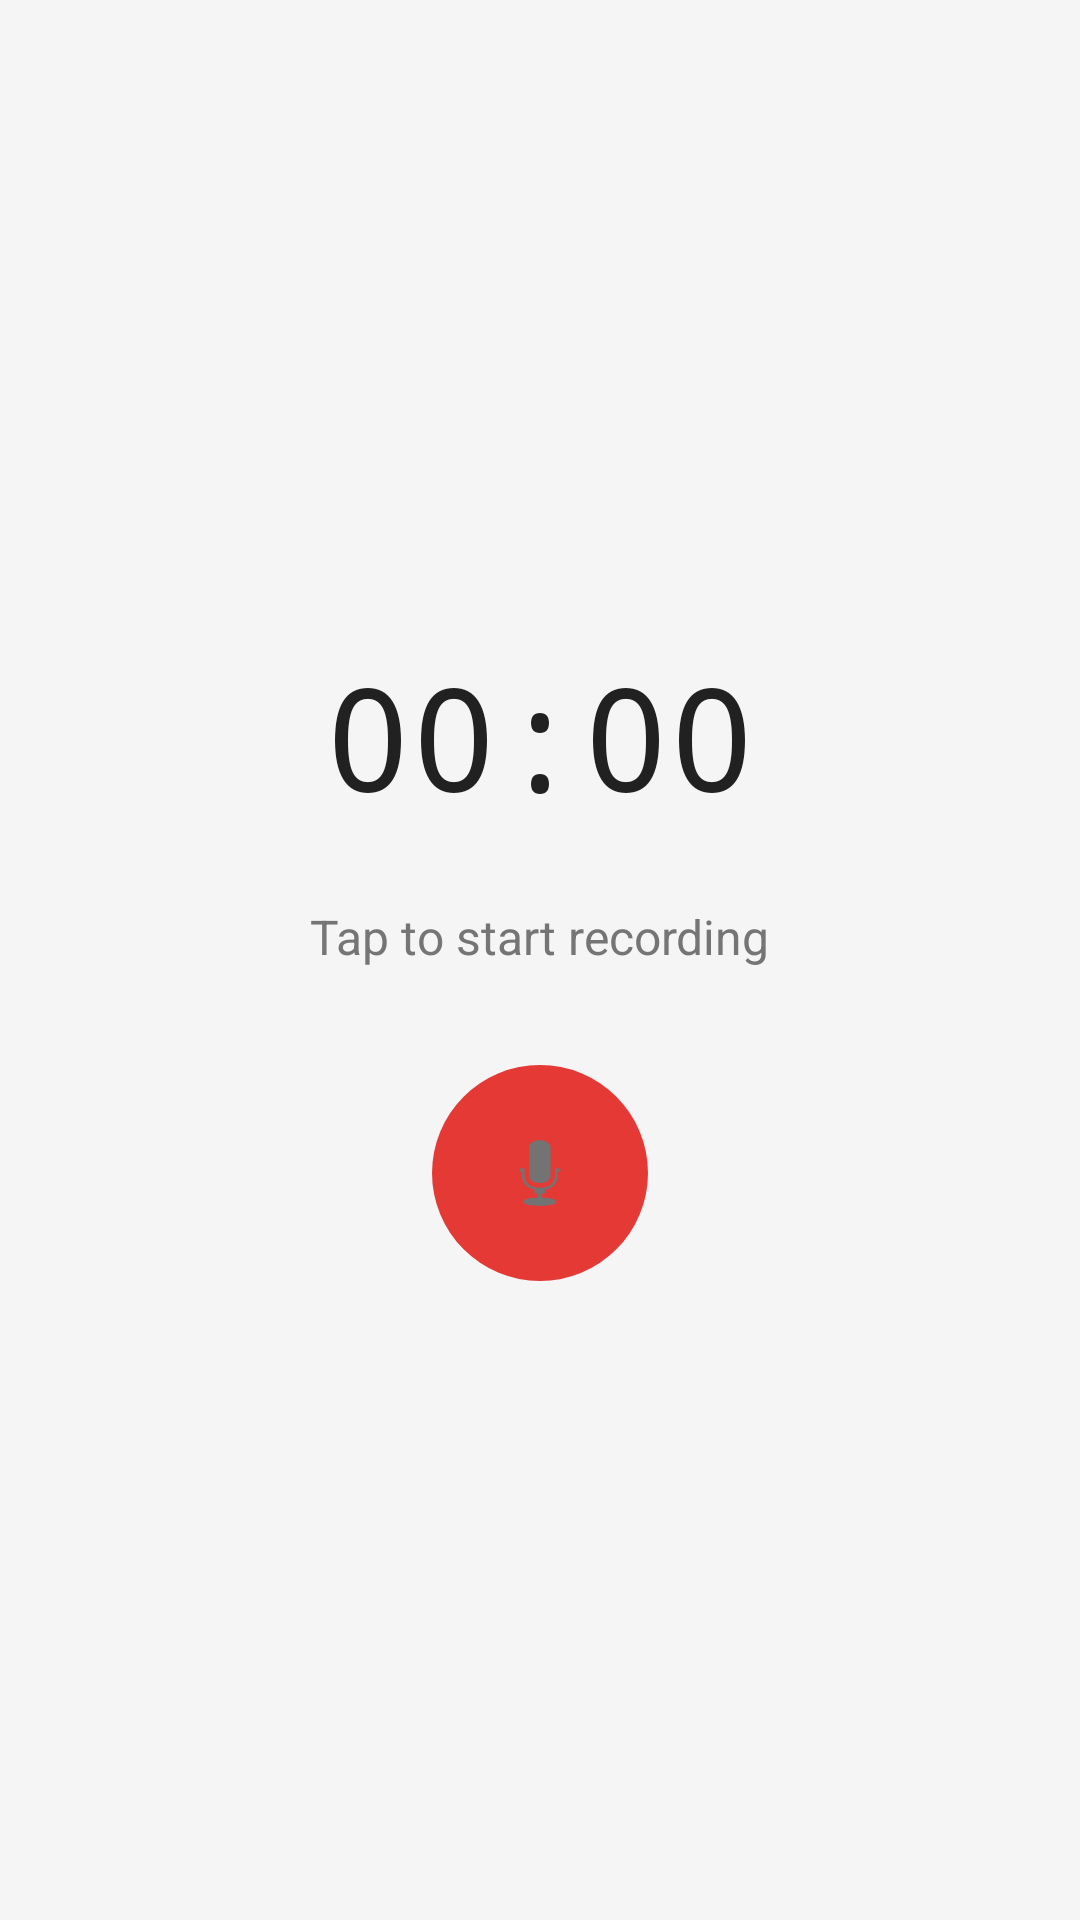

Locate icon controls on the screen. Image size 1080 x 1920, boxes as [x1, y1, x2, y2].
Record Voice: [432, 1065, 648, 1281]
